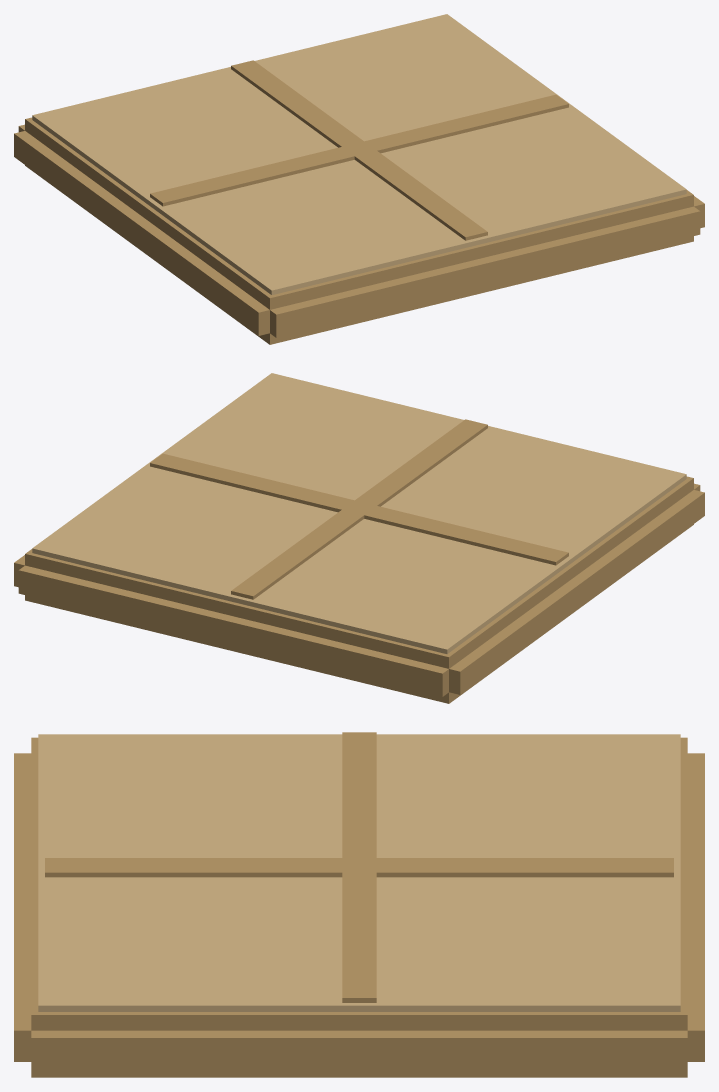
Rendered from Block_Road_Paved.glb.
3 views of the same model, one above another, from view 1: azimuth 30°, elevation 25°; view 2: azimuth 150°, elevation 25°; view 3: azimuth 270°, elevation 25° (orthographic). The views are drawn at different scales.
Parts seen in each view (by area): view 1: geometry_0; view 2: geometry_0; view 3: geometry_0.
Boxes of the visible parts, box(x1,y1,x2,y2) form: geometry_0: box(14, 14, 704, 344); geometry_0: box(14, 373, 704, 703); geometry_0: box(14, 732, 704, 1077).
Bounding box in the file's own units: 2 × 0.235 × 2.
